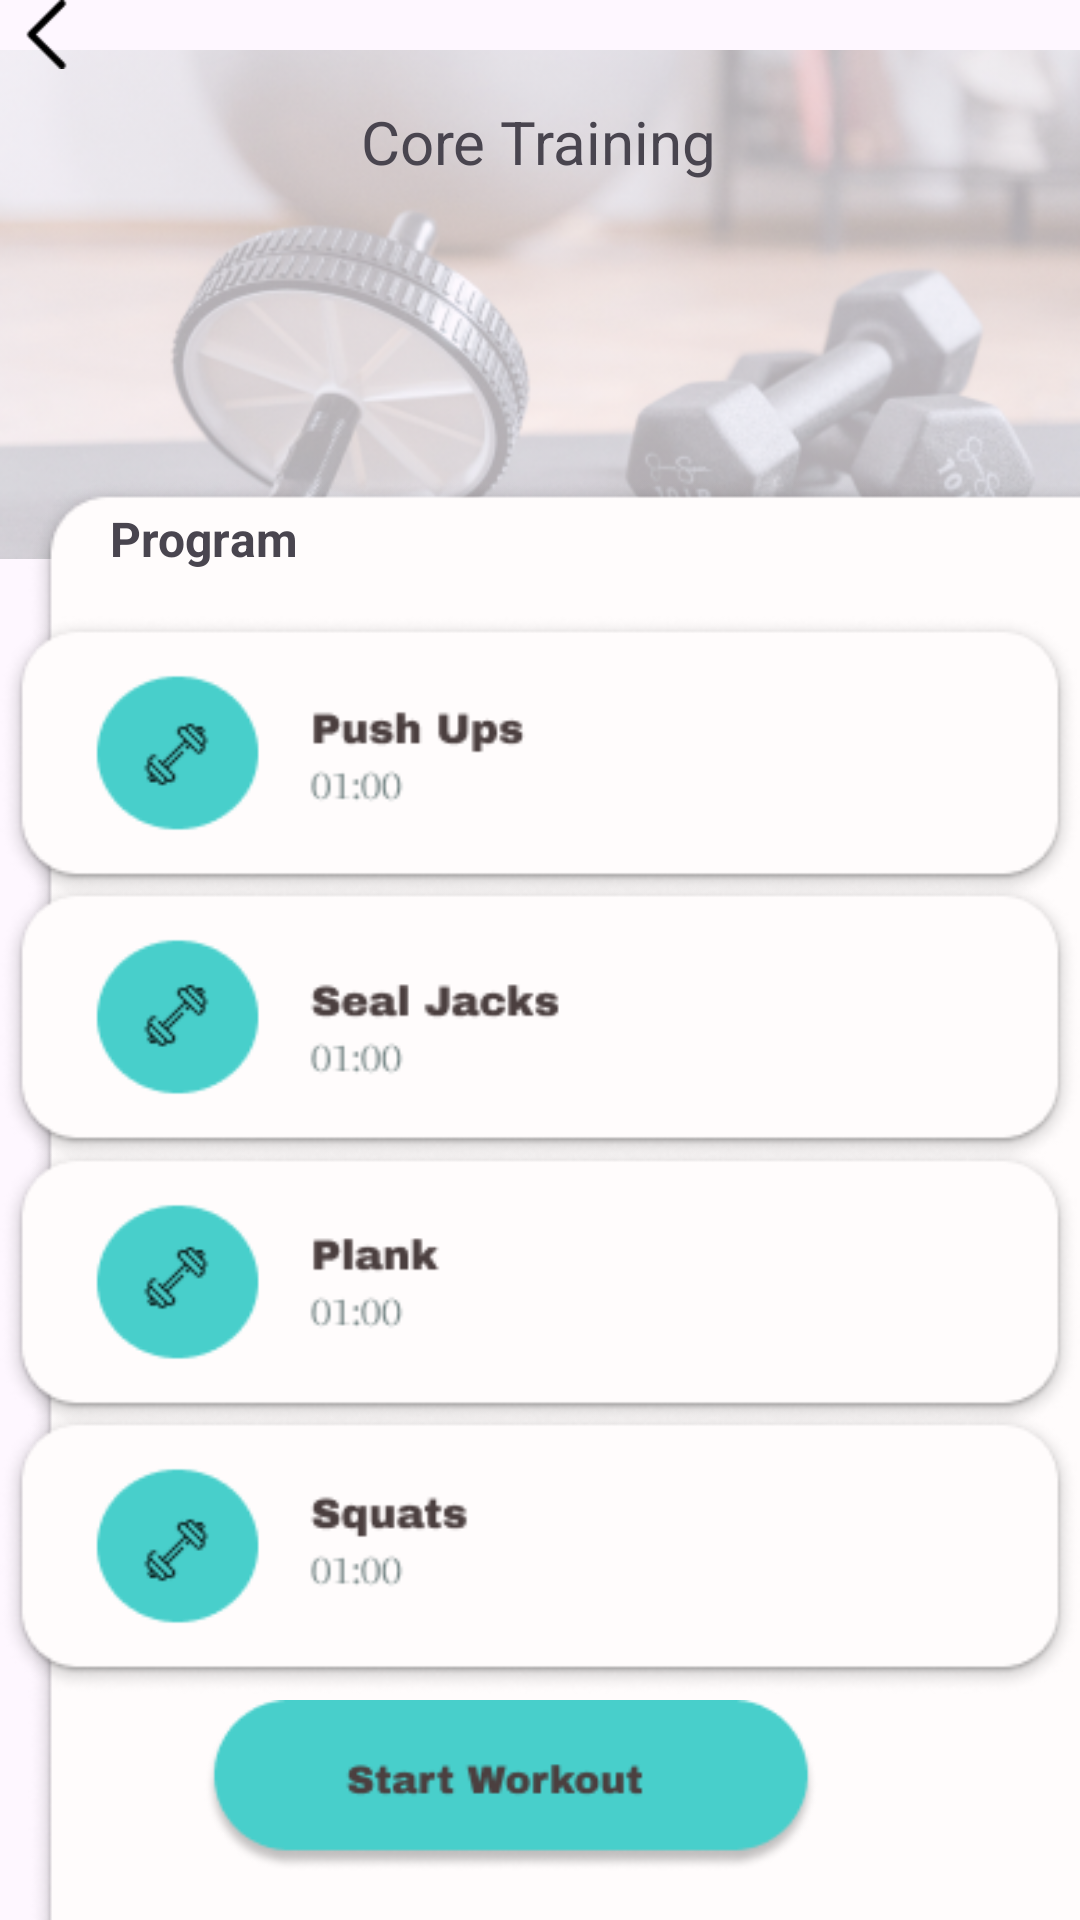

Screen size 1080 × 1920. Icon name, then its center in pixels as (x,y):
iconback: (46,34)
